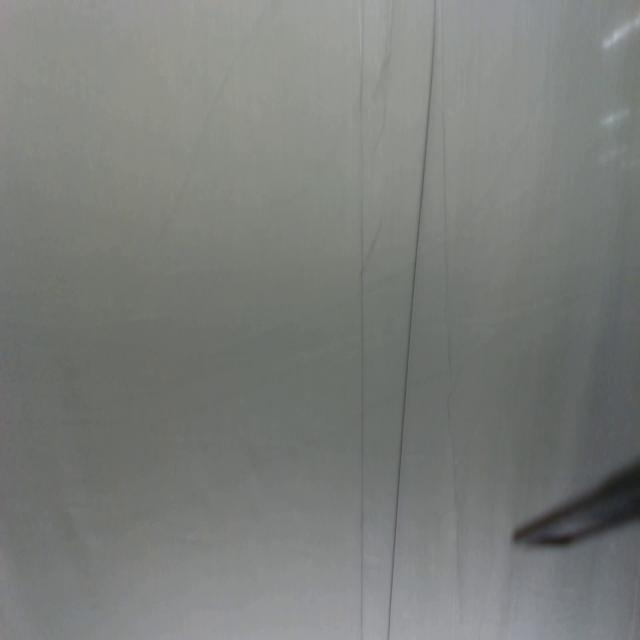crease: (387, 3, 439, 639), (439, 1, 466, 618), (356, 1, 369, 640)
